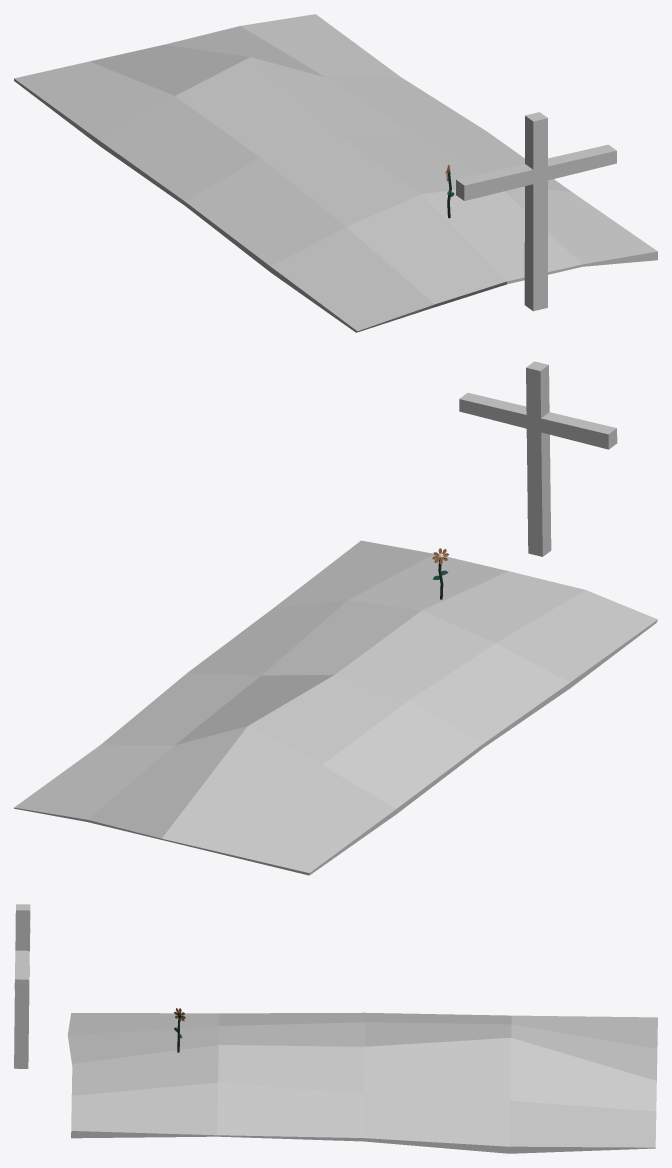
File: Tumbasff.fbx
3 views of the same model, one above another, from view 1: azimuth 30°, elevation 25°; view 2: azimuth 150°, elevation 25°; view 3: azimuth 270°, elevation 25° (orthographic). The views are drawn at different scales.
Visible parts, largest first — view 1: Tumba alt; view 2: Tumba alt; view 3: Tumba alt.
Boxes of the visible parts, box(x1,y1,x2,y2) form: Tumba alt: box(14, 14, 657, 332); Tumba alt: box(14, 361, 657, 875); Tumba alt: box(14, 904, 657, 1153).
Bounding box in the file's own units: 102 × 69.27 × 220.
